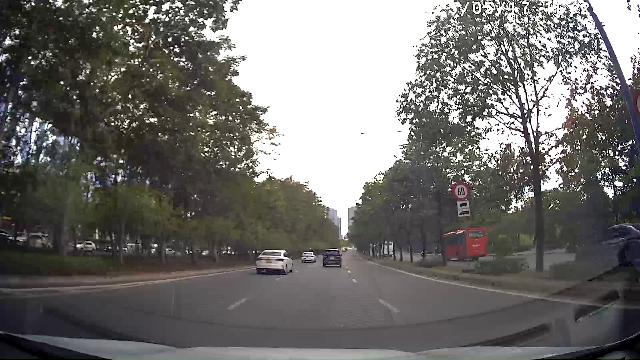127-toc-do-toi-da-60: (452, 182, 470, 200)
